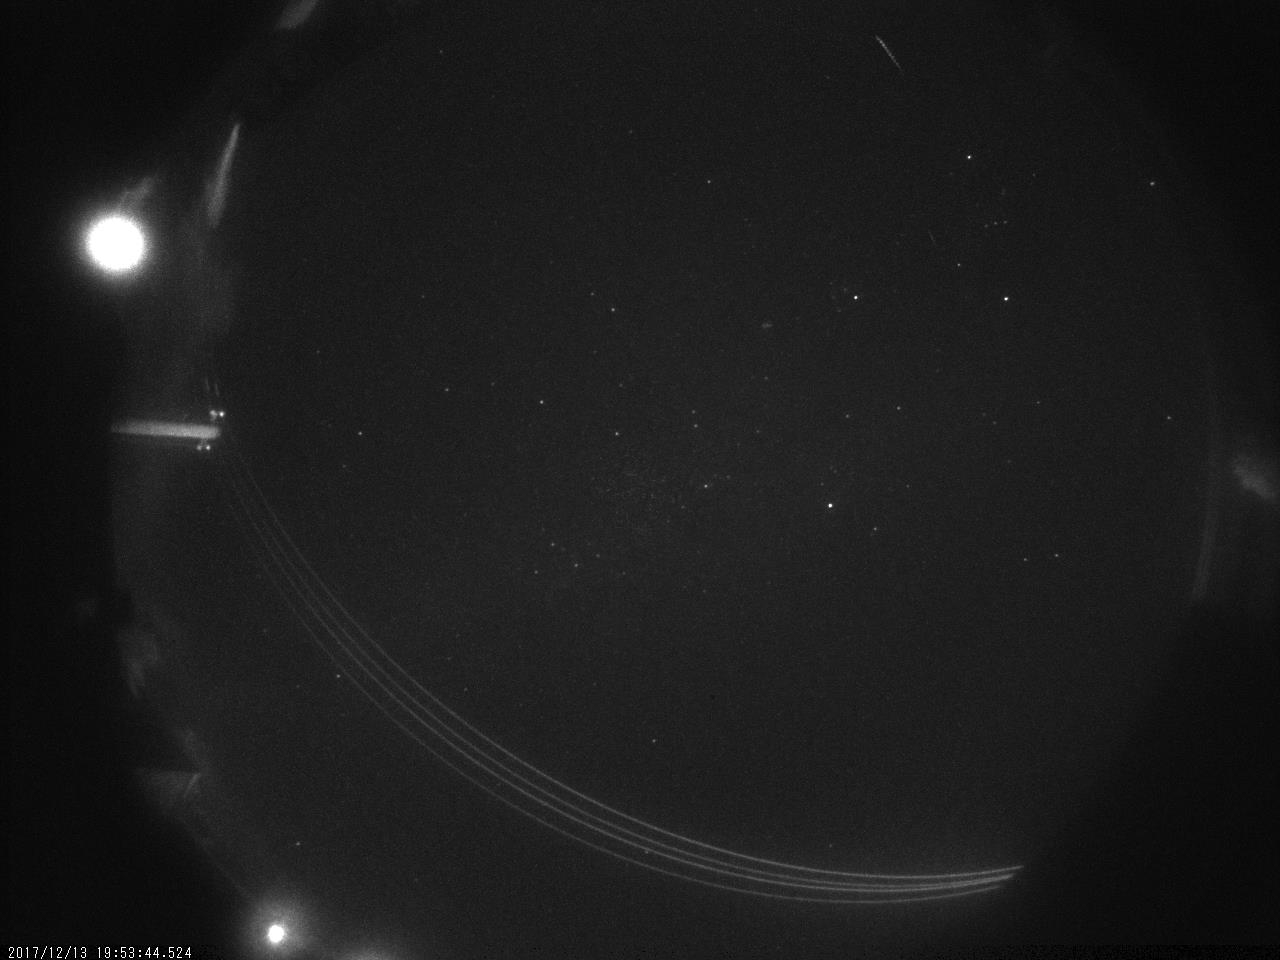meteor: (869, 18, 909, 80)
